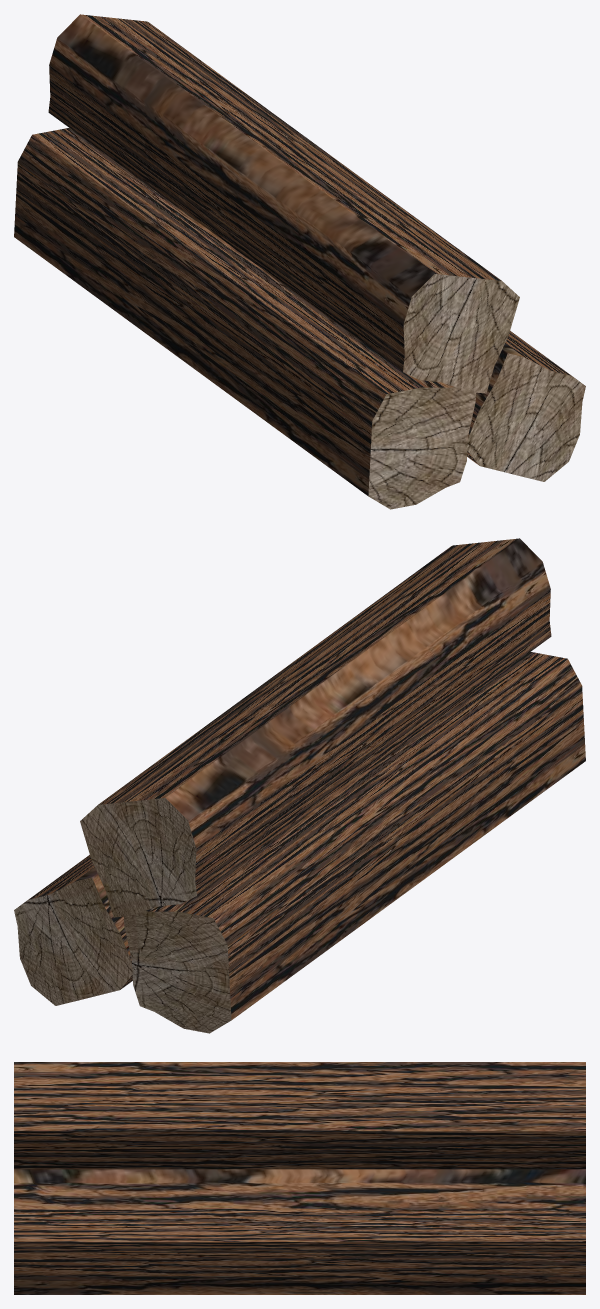
File: FirewoodBundle.fbx
3 renders of one model, top to bottom at view 1: azimuth 30°, elevation 25°; view 2: azimuth 150°, elevation 25°; view 3: azimuth 270°, elevation 25°, orthographic. The views are drawn at different scales.
Parts seen in each view (by area): view 1: FirewoodLog3, FirewoodLog2, FireWoodLogMaster; view 2: FirewoodLog3, FirewoodLog2, FireWoodLogMaster; view 3: FireWoodLogMaster, FirewoodLog3.
Part boxes in pixels (x1,y1,x2,y2): FirewoodLog3: (48,14,519,393); FirewoodLog2: (14,128,476,509); FireWoodLogMaster: (465,331,585,481); FirewoodLog3: (80,538,551,917); FirewoodLog2: (123,652,585,1033); FireWoodLogMaster: (14,855,133,1005); FireWoodLogMaster: (14,1169,585,1294); FirewoodLog3: (14,1062,585,1169).
Size of the model in its own units: 1 by 1.04 by 2.83.
